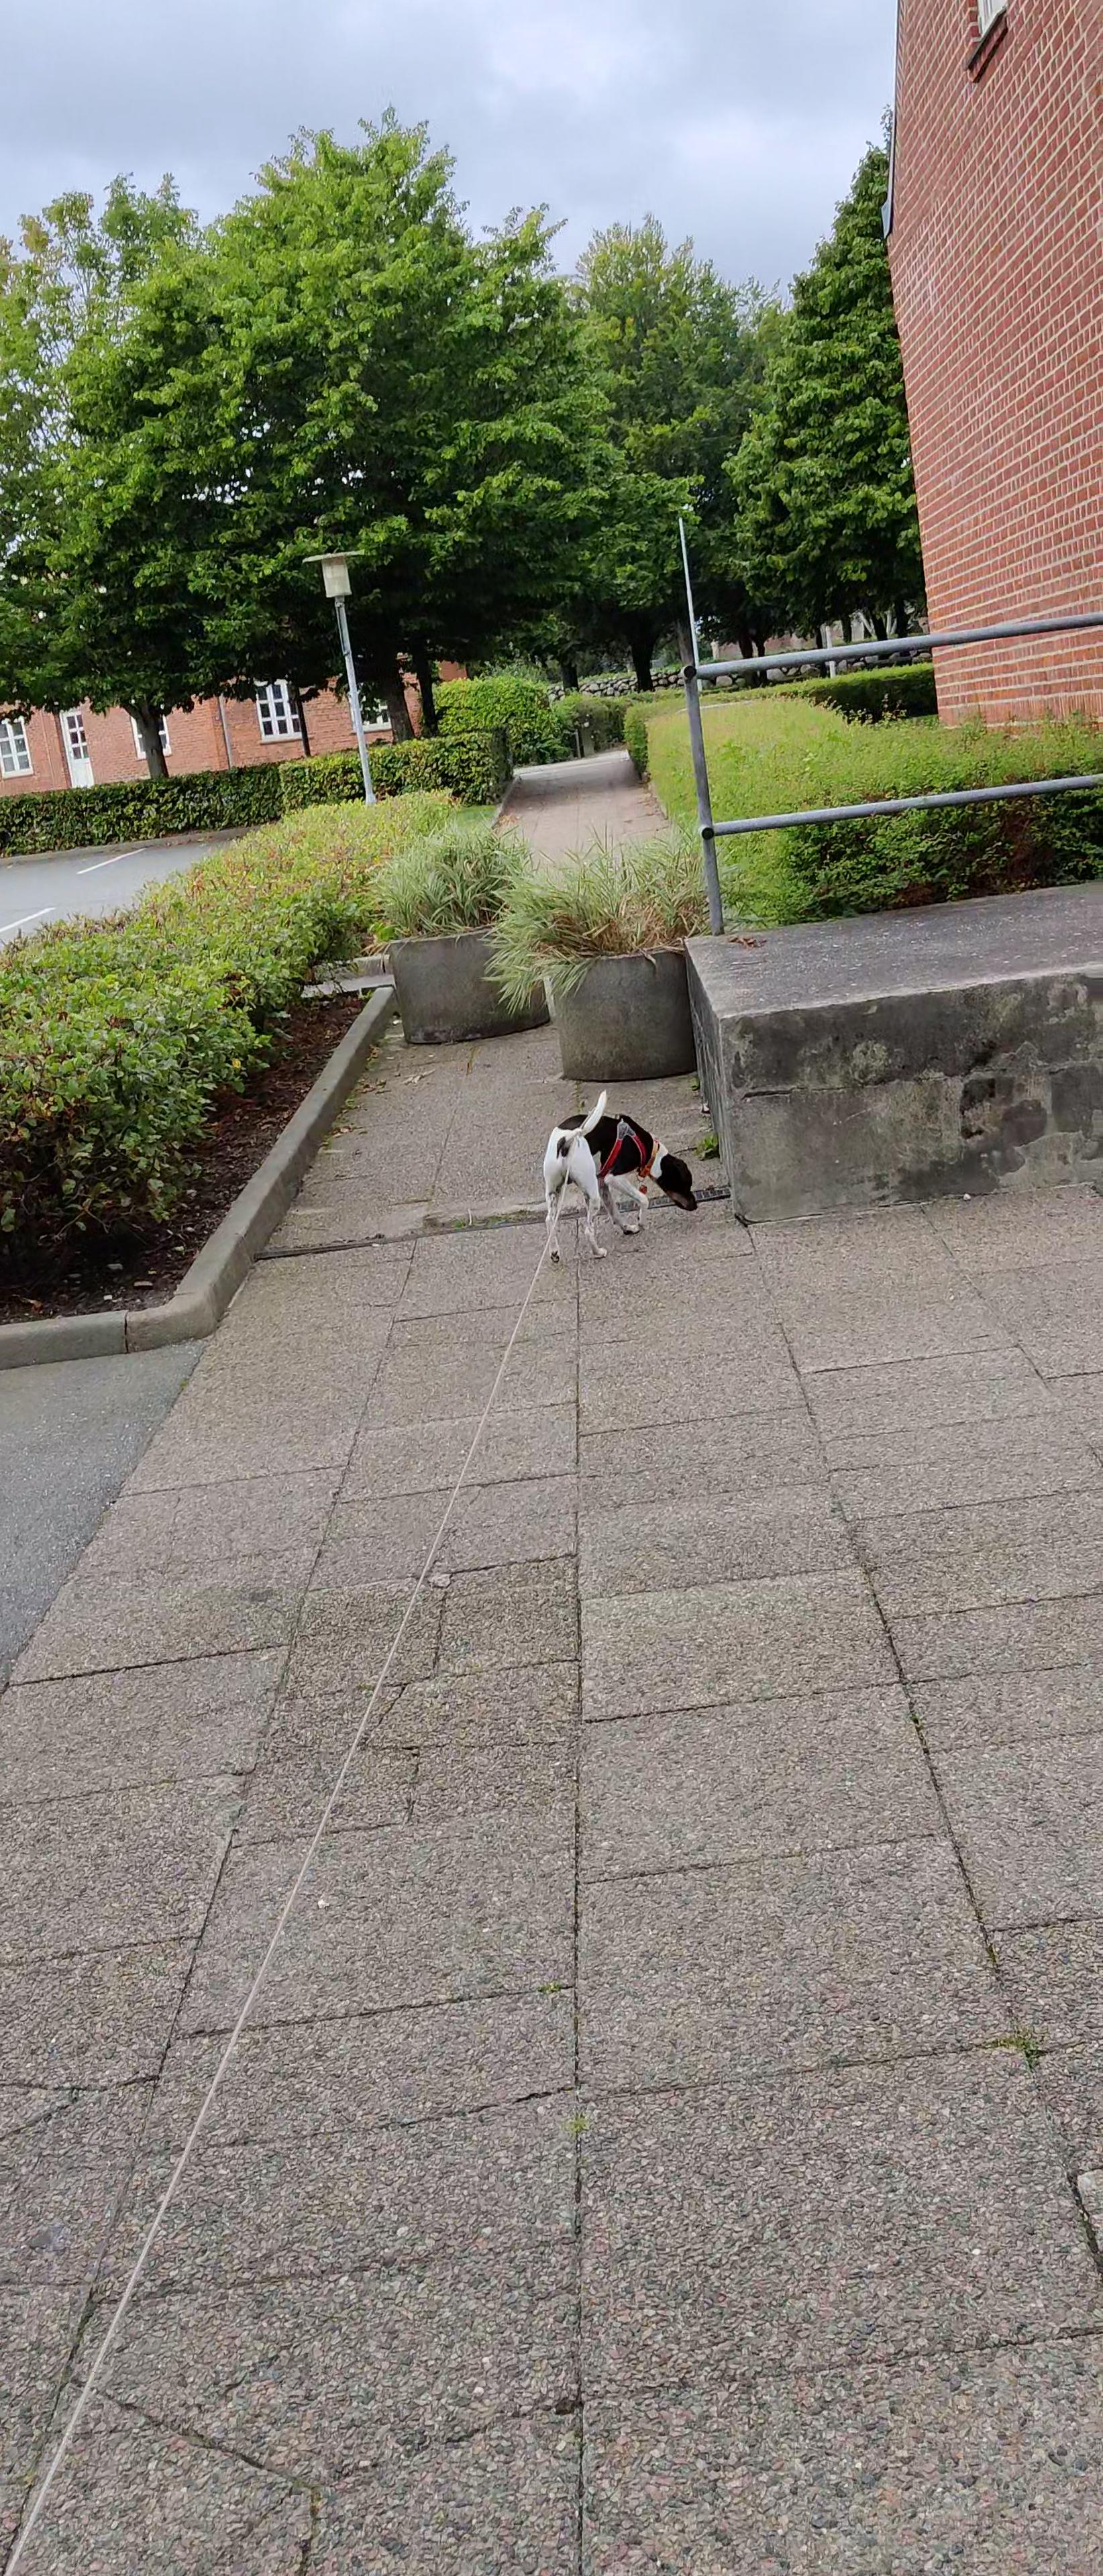Dog: (541, 1086, 697, 1262)
